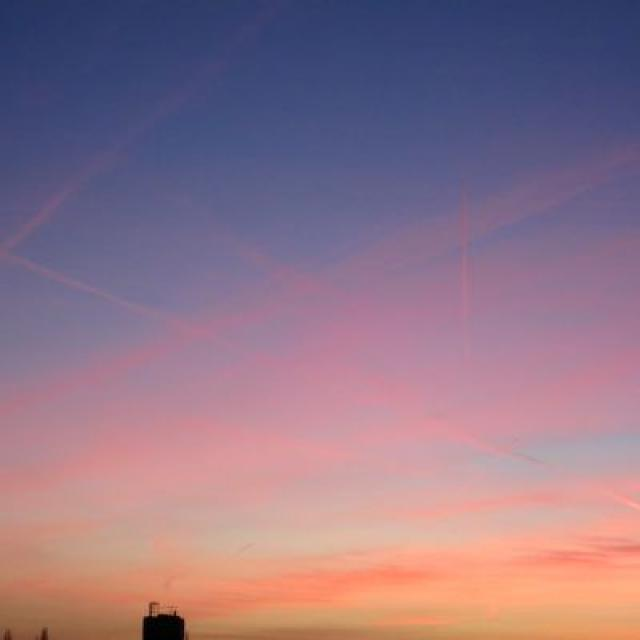Ct: (1, 29, 640, 507)
